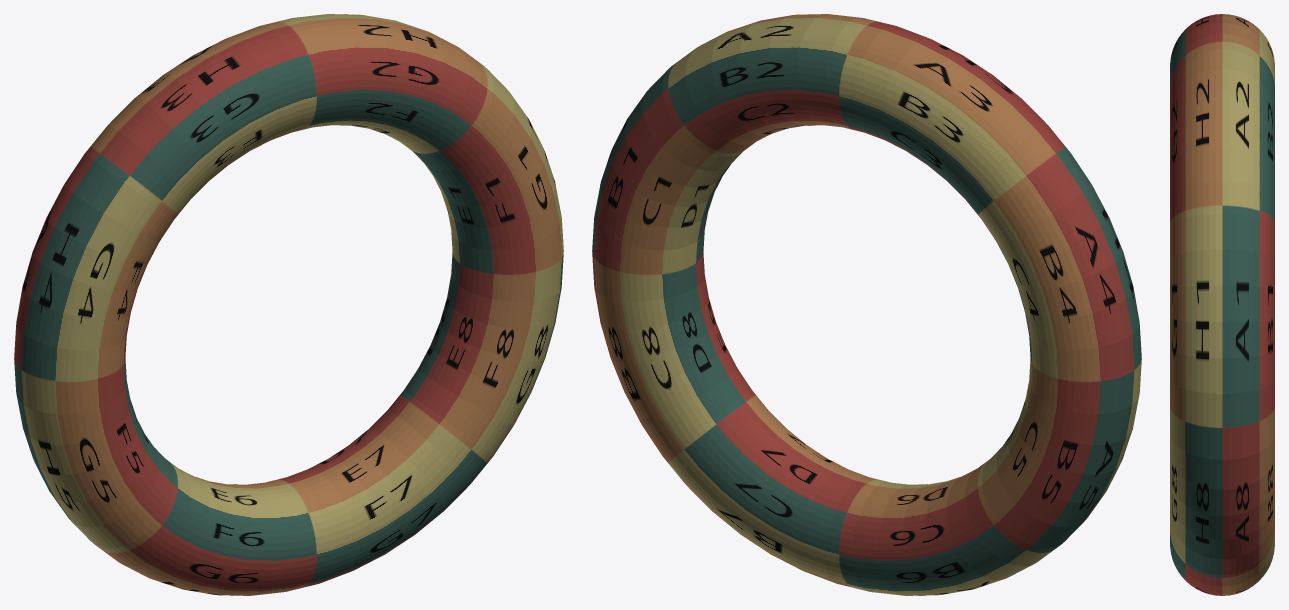
The model's file is texture_torus_R15_r9.glb.
3 views of the same model, side by side, from view 1: azimuth 30°, elevation 25°; view 2: azimuth 150°, elevation 25°; view 3: azimuth 270°, elevation 25° (orthographic). The views are drawn at different scales.
Visible parts, largest first — view 1: world; view 2: world; view 3: world.
Part boxes in pixels (left/top/right/bottom): world: left=14, top=14, right=563, bottom=595; world: left=592, top=14, right=1141, bottom=595; world: left=1170, top=14, right=1274, bottom=595.
Bounding box in the file's own units: 24.4 × 24.35 × 4.39.
Materials: 1 (1 with a texture image).
